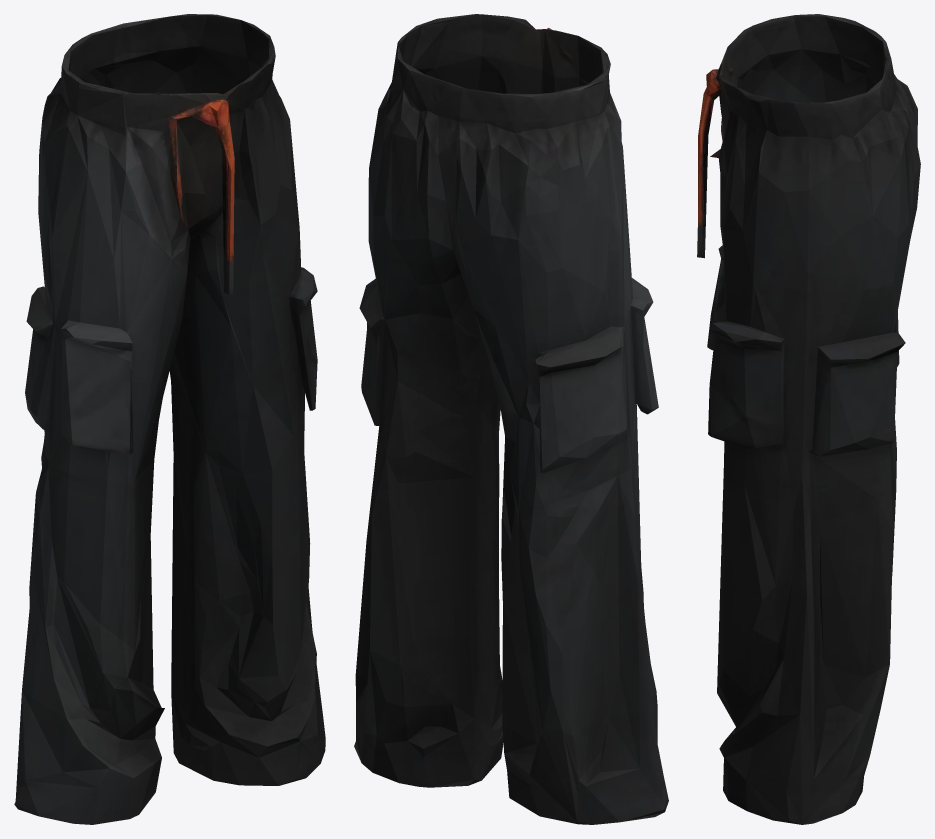
The picture shows the model from 3 angles, left to right: view 1: azimuth 30°, elevation 25°; view 2: azimuth 150°, elevation 25°; view 3: azimuth 270°, elevation 25°; orthographic projection. The views are drawn at different scales.
Parts seen in each view (by area): view 1: geometry_0; view 2: geometry_0; view 3: geometry_0.
Boxes of the visible parts, x1=… form: geometry_0: x1=14, y1=14, x2=325, y2=824; geometry_0: x1=354, y1=14, x2=668, y2=824; geometry_0: x1=697, y1=14, x2=920, y2=824.
Size of the model in its own units: 0.4439 by 0.9989 by 0.2905.
Materials: 1 (1 with a texture image).
